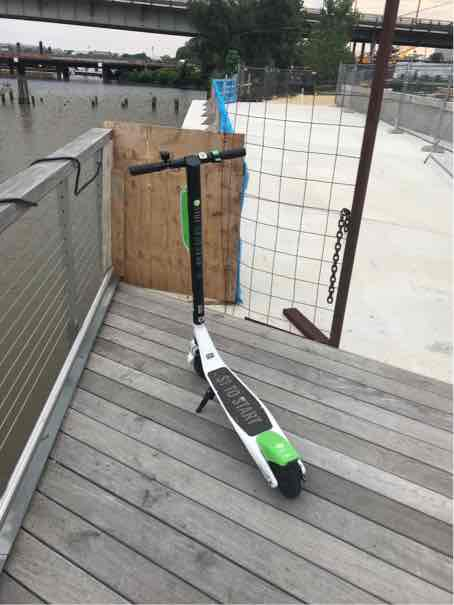scooter: (122, 136, 317, 511)
